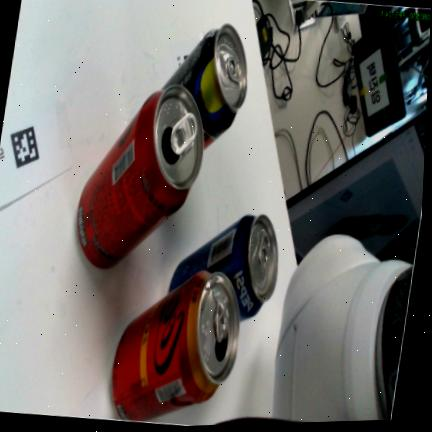can_coke_decaf: (112, 271, 240, 420)
can_coke_zero: (77, 85, 204, 268)
can_pepsi: (169, 214, 278, 320)
can_pepsi_zero: (163, 24, 248, 148)
